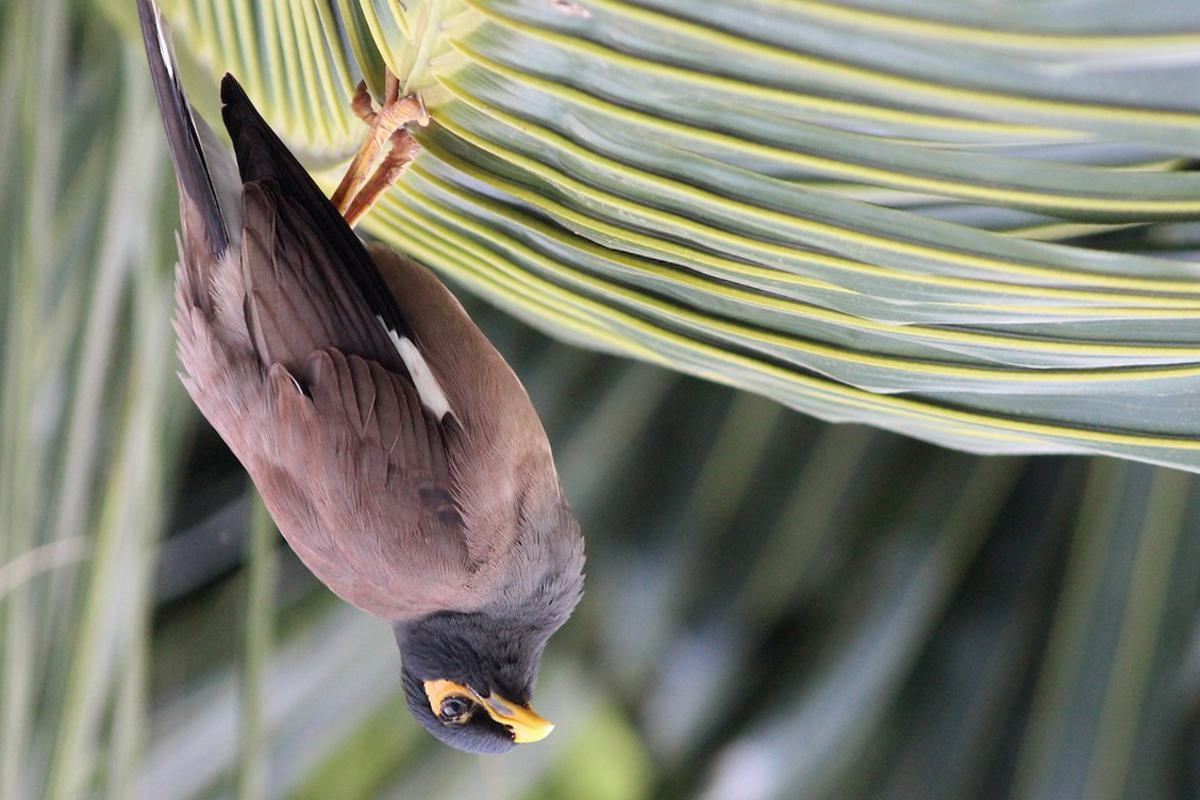myna: (99, 57, 610, 766)
